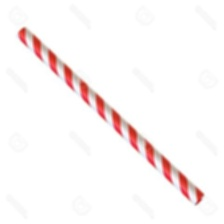drinking_straw: (10, 22, 211, 210)
